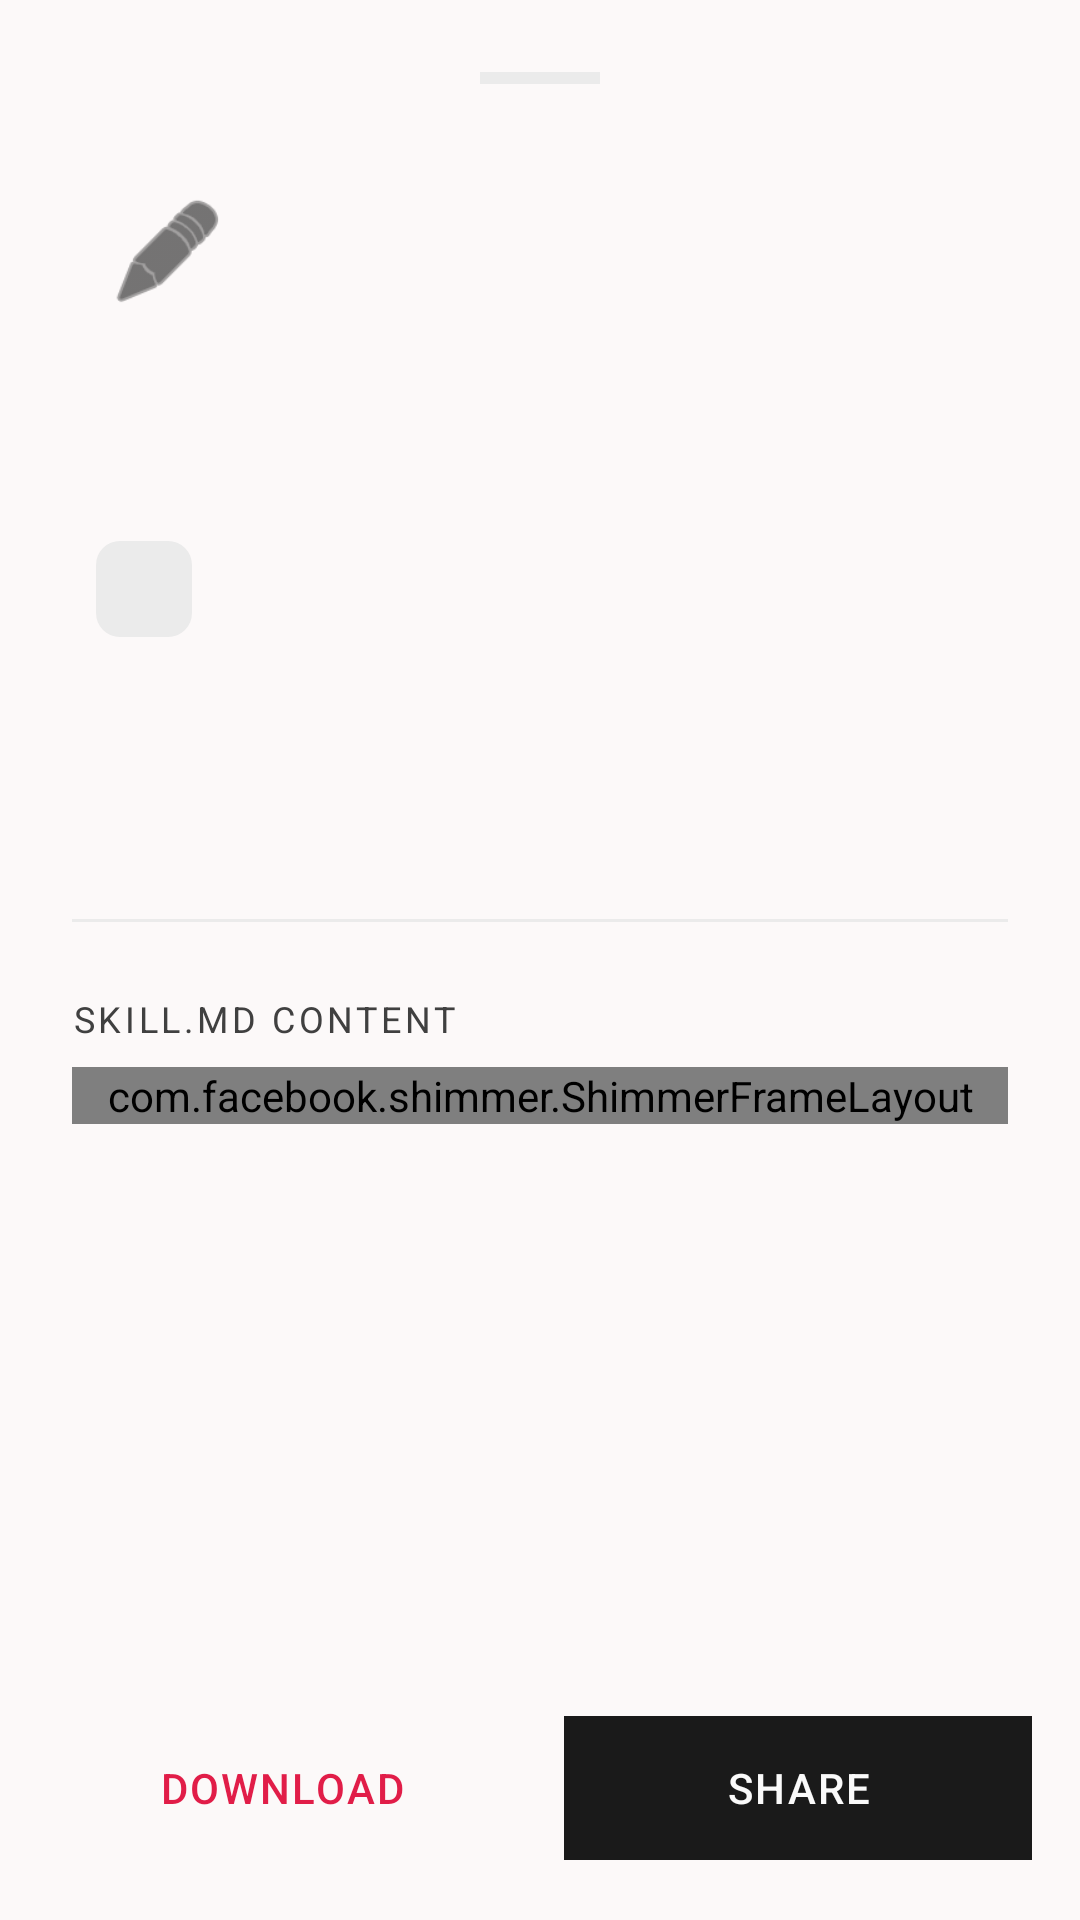

Screen size 1080x1920. Icon name, then its box in pixels as rect(x1, y1, x2, y2):
edit: rect(117, 200, 218, 302)
